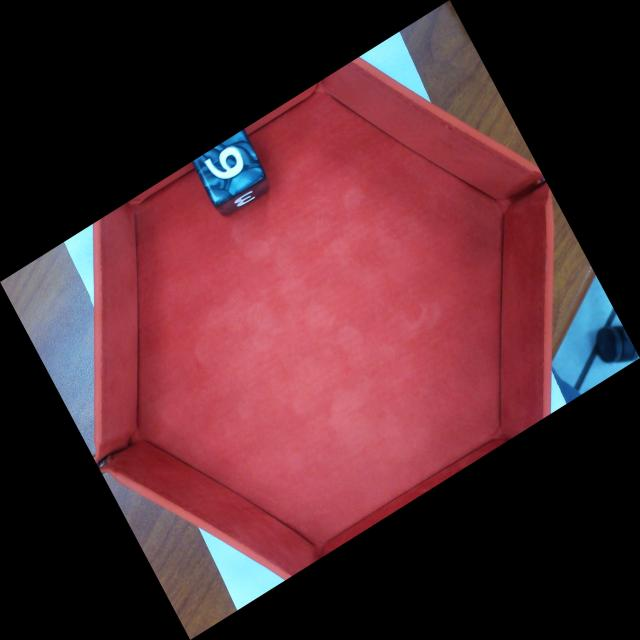dice: (194, 133, 268, 204)
